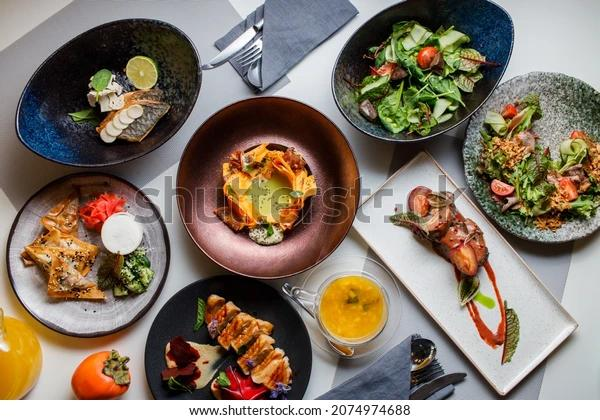Braised Crucian Carp: (333, 138, 595, 409), (175, 96, 356, 279), (15, 18, 200, 167), (3, 171, 167, 338), (332, 1, 511, 145), (460, 72, 600, 243), (143, 274, 310, 398)
